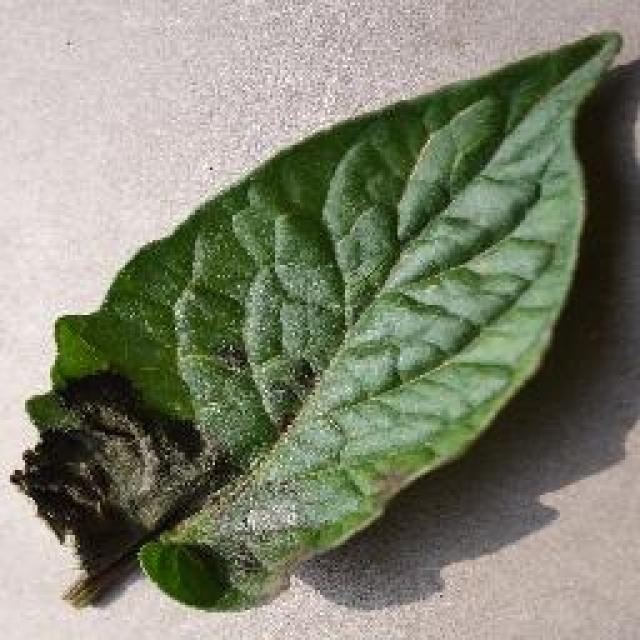Tomato Late Blight: (12, 355, 350, 602)
